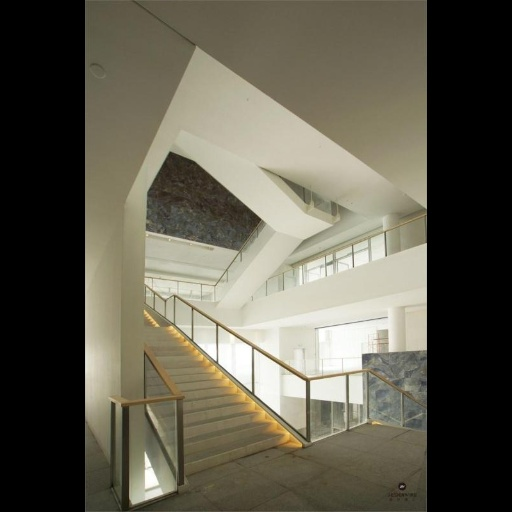Stairs: (145, 309, 302, 475)
